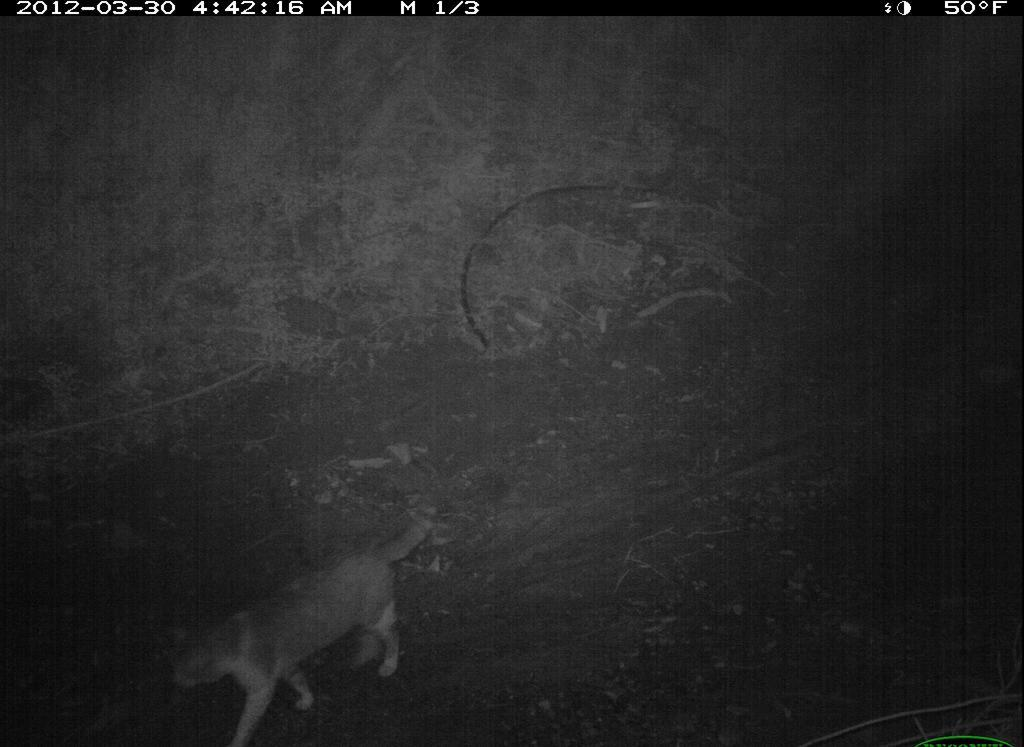cat: (159, 492, 456, 744)
